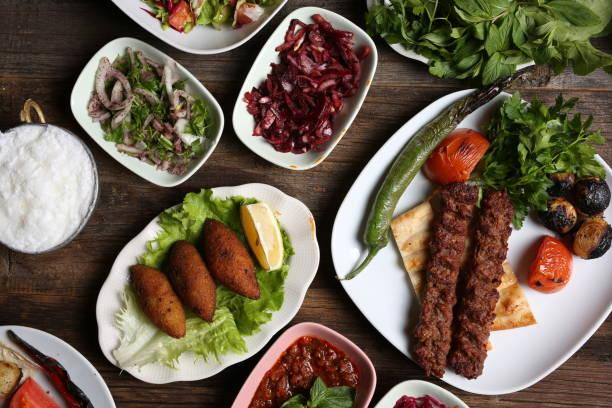Braised Crucian Carp: (329, 88, 610, 393), (94, 184, 313, 384), (232, 6, 375, 171), (69, 37, 219, 187)
